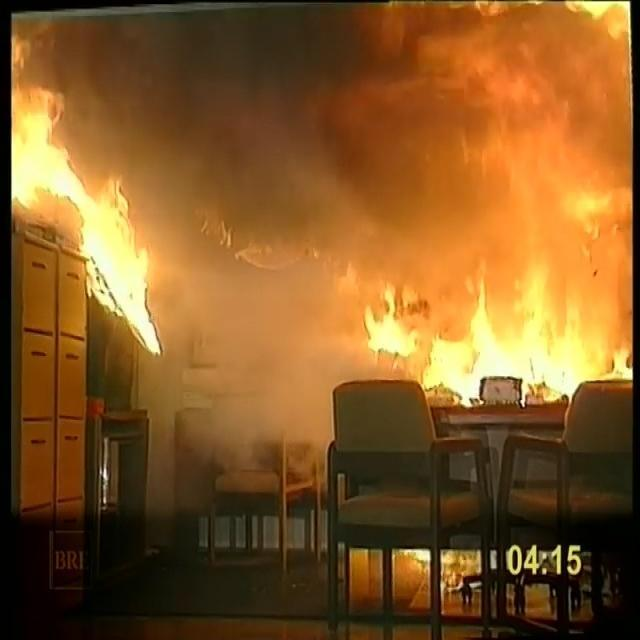Fire: (10, 4, 640, 474)
